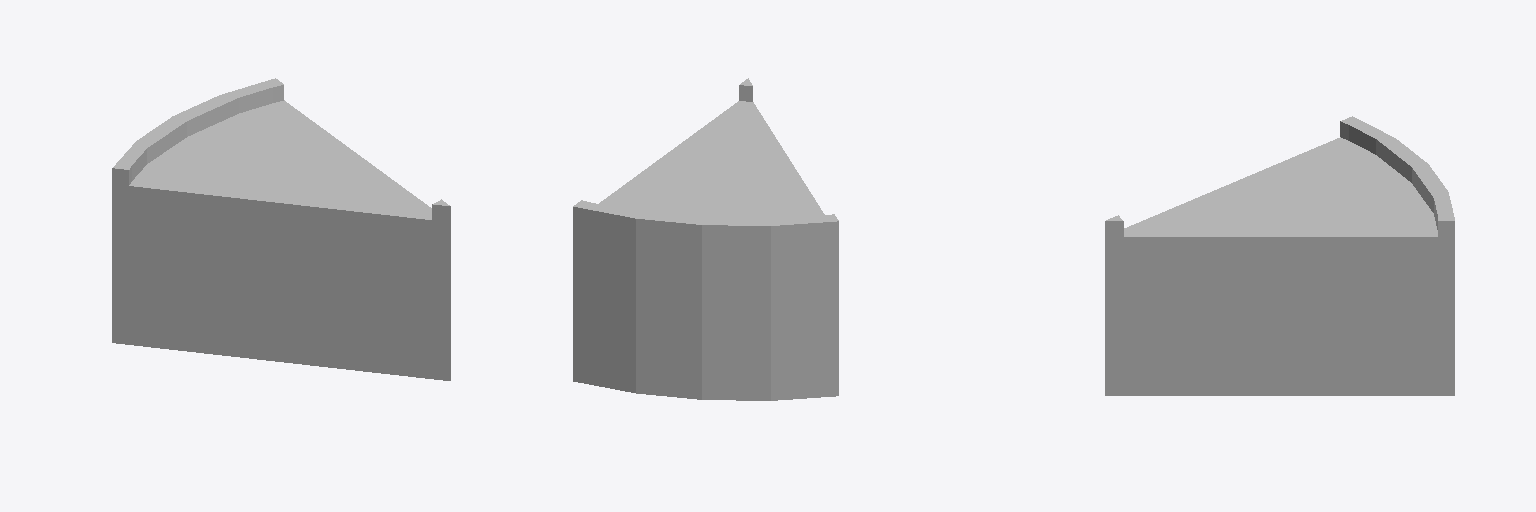
File: bend_45.obj
3 views of the same model, side by side, from view 1: azimuth 30°, elevation 25°; view 2: azimuth 150°, elevation 25°; view 3: azimuth 270°, elevation 25° (orthographic).
Parts seen in each view (by area): view 1: 45_turn_Circle.010; view 2: 45_turn_Circle.010; view 3: 45_turn_Circle.010.
Boxes of the visible parts, x1=… form: 45_turn_Circle.010: x1=112, y1=78, x2=450, y2=380; 45_turn_Circle.010: x1=573, y1=78, x2=838, y2=400; 45_turn_Circle.010: x1=1105, y1=116, x2=1454, y2=395.
Size of the model in its own units: 8.49 by 6.6 by 12.